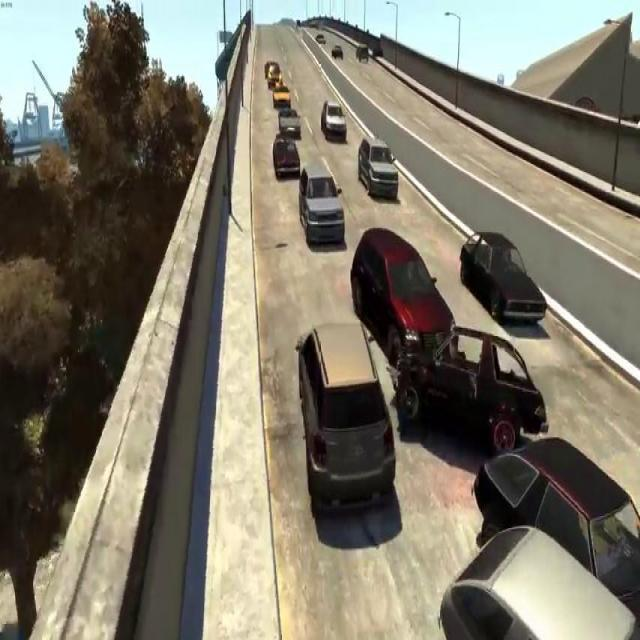accident: (346, 219, 547, 445)
